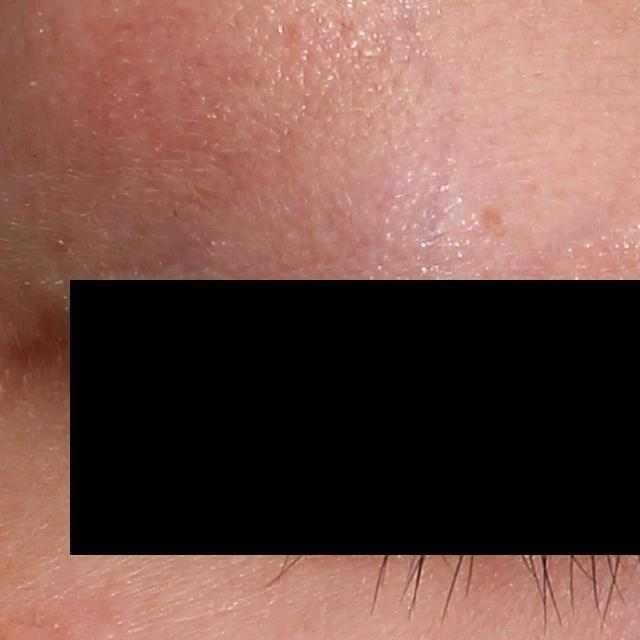melasma: (481, 203, 506, 235)
